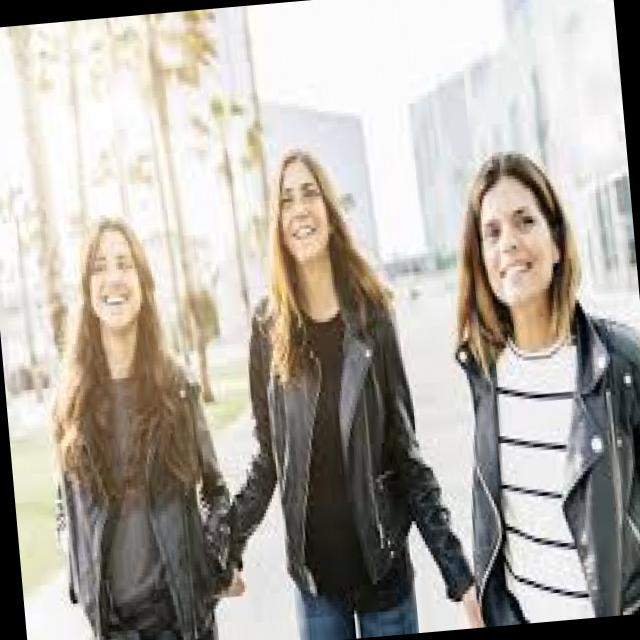Jacket: (222, 275, 452, 619), (33, 346, 257, 640), (438, 307, 640, 628)
